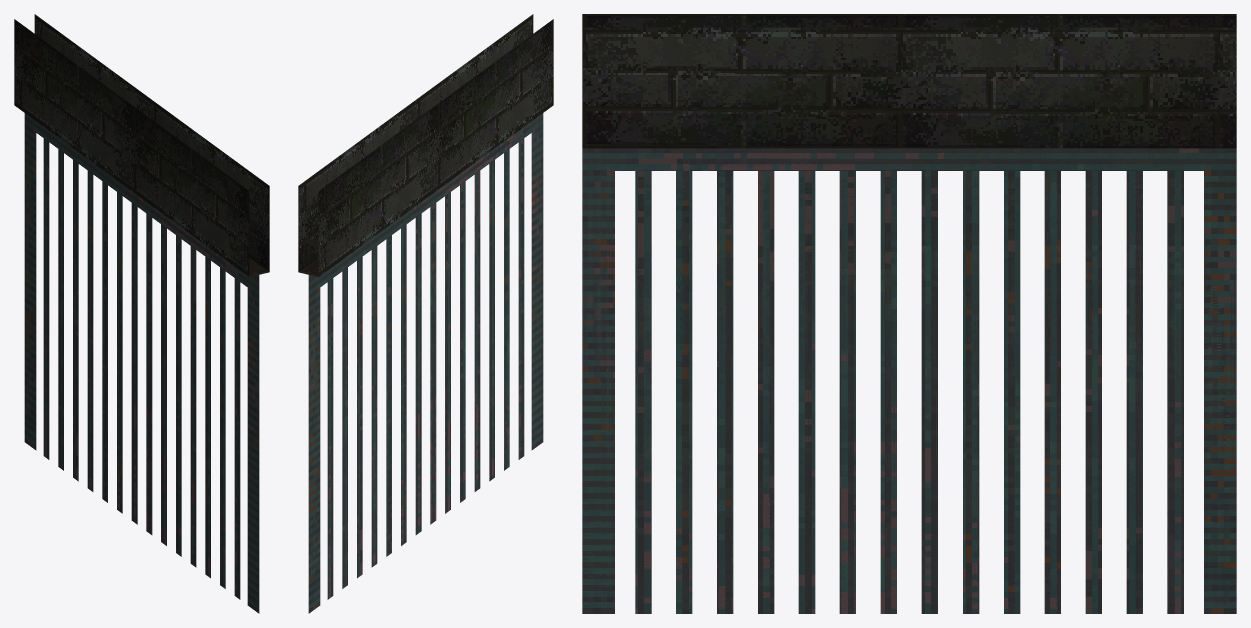
File: BarsLow.glb
3 renders of one model, left to right at view 1: azimuth 30°, elevation 25°; view 2: azimuth 150°, elevation 25°; view 3: azimuth 270°, elevation 25°, orthographic. The views are drawn at different scales.
Visible parts, largest first — view 1: BarsLow; view 2: BarsLow; view 3: BarsLow.
Boxes of the visible parts, <box> form: BarsLow: <box>14,14,269,613</box>; BarsLow: <box>298,14,553,613</box>; BarsLow: <box>582,14,1236,613</box>.
Size of the model in its own units: 0.2001 by 4 by 4.
2 materials, 2 textured.
